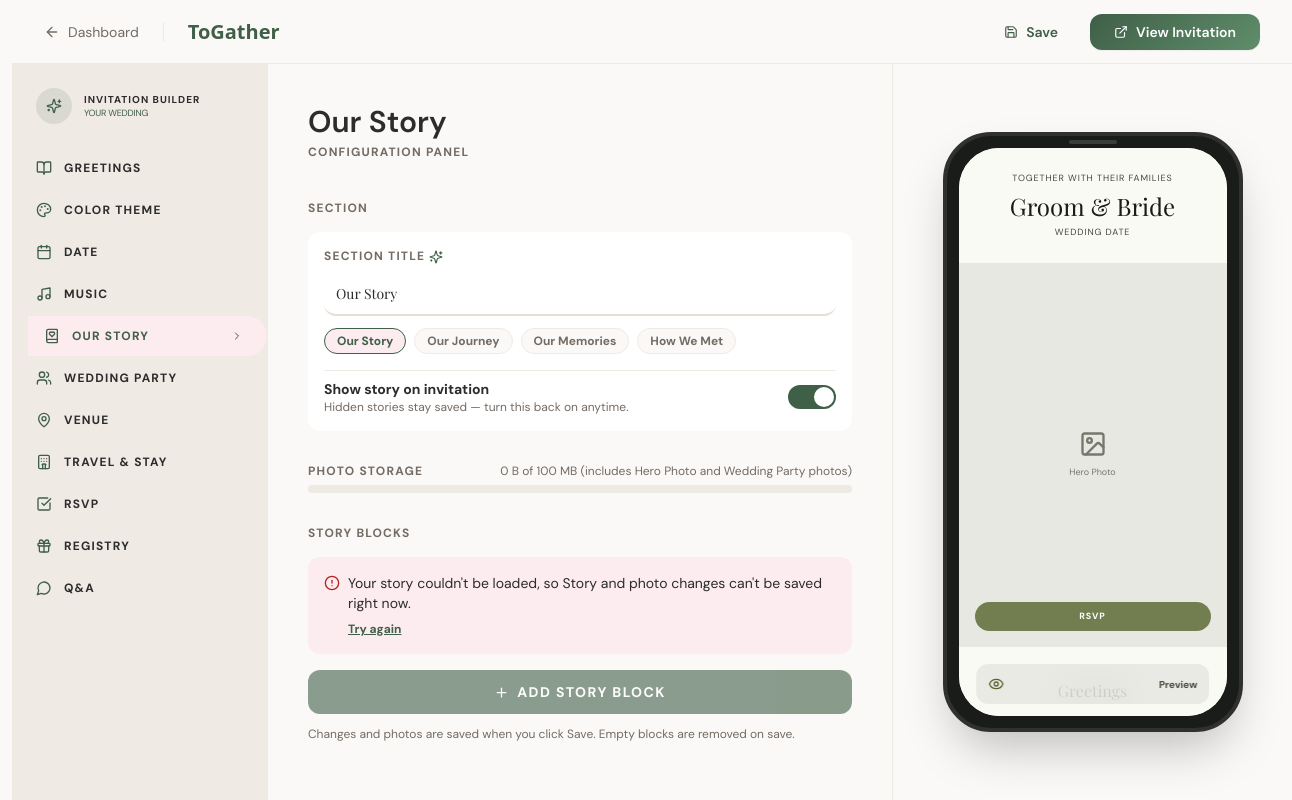
Test case: Our Story editor › shows an error with retry when the story fails to load
This screenshot has width=1292, height=800.
Expected: the heading "Story Blocks" is shown, [308,525,410,541]
Expected: the text "couldn't be loaded" is shown, [348,574,822,612]
Click the button "Try again": (375, 629) [348,621,402,637]
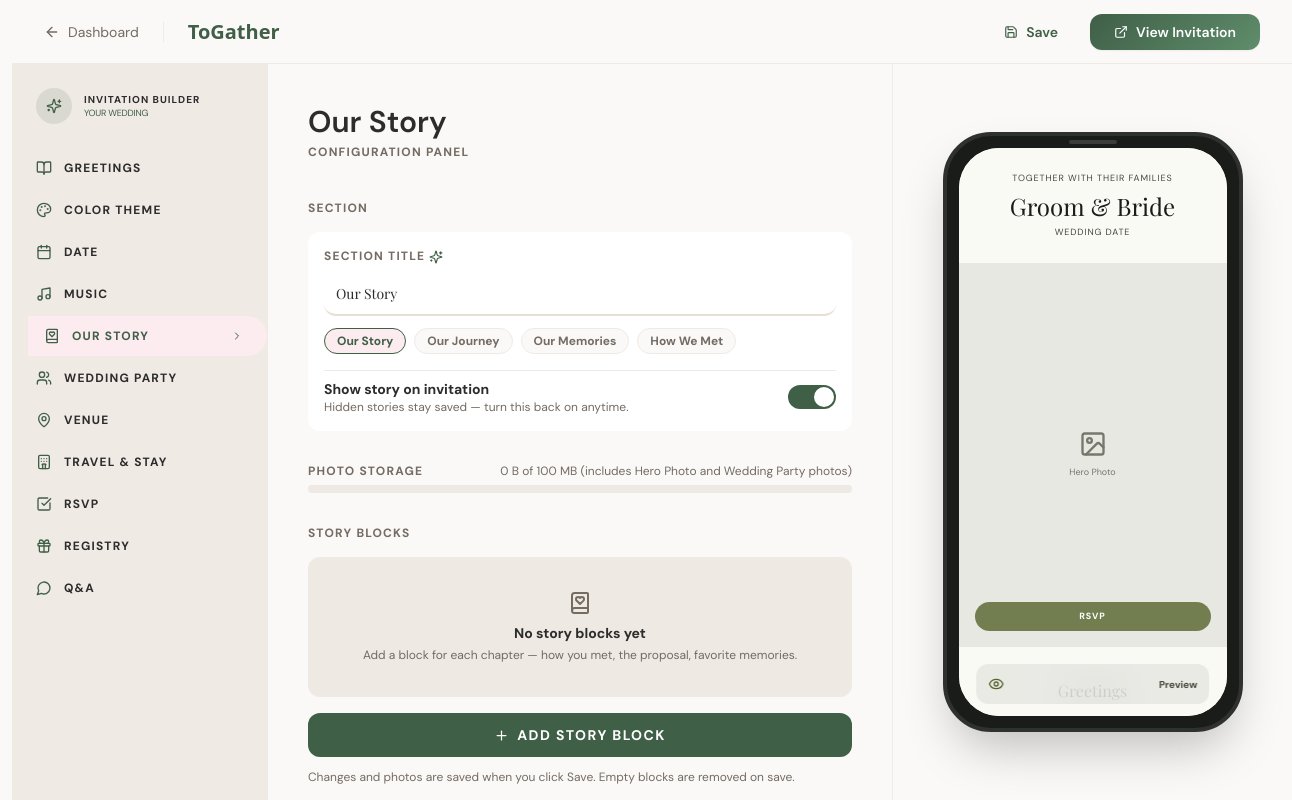
Now the text "No story blocks yet" is shown, box [514,623,646,643]
